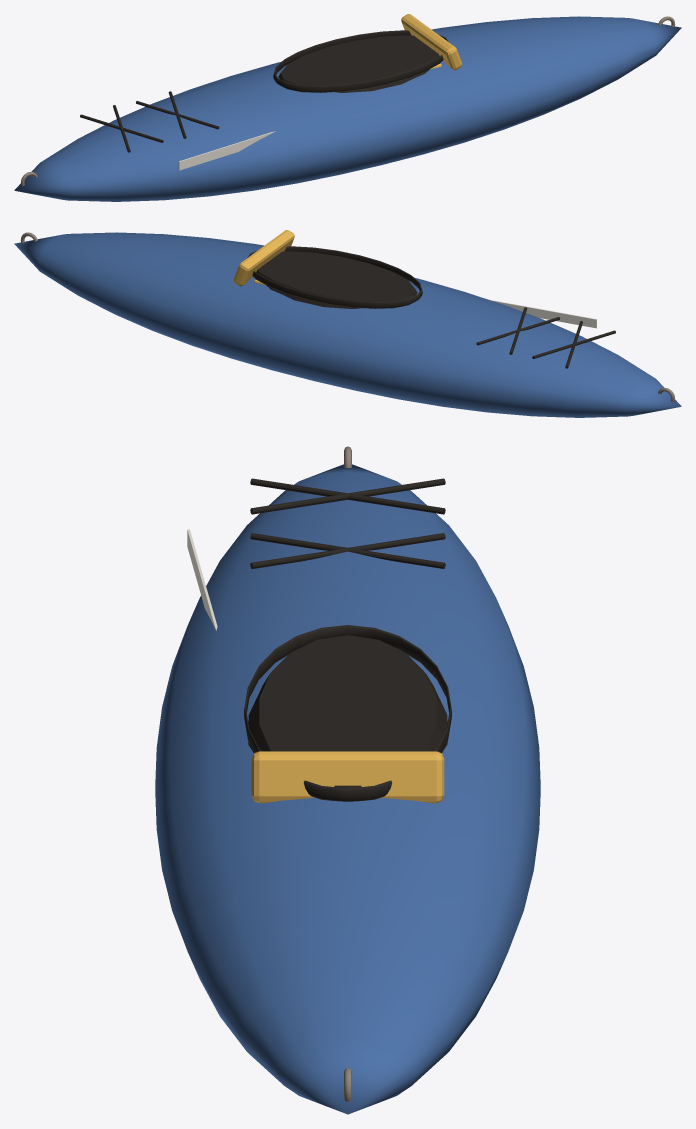
Rendered from hh_cat_kayak.glb.
3 renders of one model, top to bottom at view 1: azimuth 30°, elevation 25°; view 2: azimuth 150°, elevation 25°; view 3: azimuth 270°, elevation 25°, orthographic. The views are drawn at different scales.
Visible parts, largest first — view 1: hull, cockpit, coaming, kayak_seat_back, hull_stripe, bungee.002, bungee; view 2: hull, cockpit, coaming, kayak_seat_back, hull_stripe, bungee.003, bungee.001; view 3: hull, cockpit, kayak_seat_back, coaming, bungee.002, bungee.003, bungee, bungee.001.
Part boxes in pixels (x1,y1,x2,y2): hull: (14,16,681,201); cockpit: (278,35,439,92); coaming: (273,30,448,92); kayak_seat_back: (401,14,462,70); hull_stripe: (178,131,275,170); bungee.002: (80,114,163,142); bungee: (136,101,219,129); hull: (14,232,681,417); cockpit: (256,251,417,308); coaming: (247,246,422,308); kayak_seat_back: (233,230,294,286); hull_stripe: (489,299,596,328); bungee.003: (532,330,615,358); bungee.001: (476,317,559,345); hull: (155,464,540,1114); cockpit: (248,635,447,788); kayak_seat_back: (251,751,444,803); coaming: (244,625,451,801); bungee.002: (250,478,445,514); bungee.003: (250,478,445,514); bungee: (250,533,445,568); bungee.001: (250,533,445,568).
Size of the model in its own units: 2.4 by 0.35 by 0.6.
